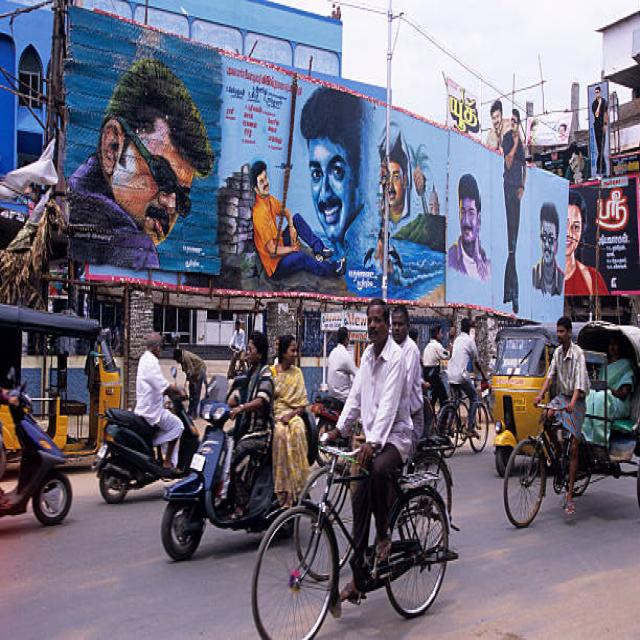Werbetafel frei: (61, 101, 568, 312), (570, 181, 640, 295)
